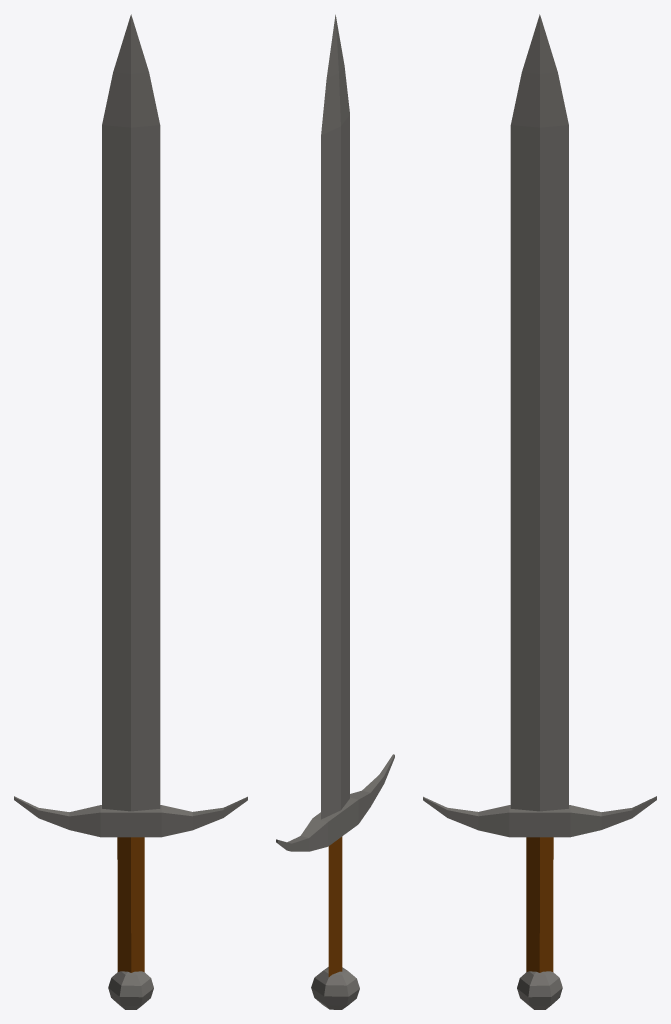
File: sword.fbx
The picture shows the model from 3 angles, left to right: view 1: azimuth 90°, elevation 25°; view 2: azimuth 150°, elevation 25°; view 3: azimuth 270°, elevation 25°; orthographic projection.
Parts seen in each view (by area): view 1: Sphere; view 2: Sphere; view 3: Sphere.
Boxes of the visible parts, x1,y1,x2,y2 form: Sphere: [14, 14, 247, 1009]; Sphere: [276, 14, 394, 1009]; Sphere: [423, 14, 656, 1009].
Size of the model in its own units: 149 by 3768 by 803.
